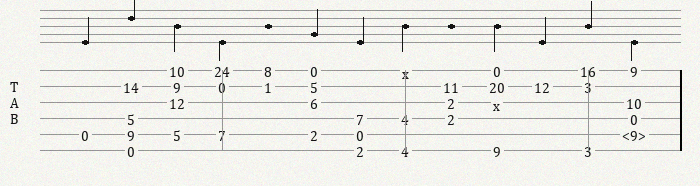0: (81, 127, 93, 141), (127, 143, 139, 157), (218, 79, 230, 93), (310, 63, 322, 77), (356, 127, 368, 141), (493, 63, 505, 77), (630, 111, 642, 125)
1: (264, 79, 276, 93)
10: (169, 63, 189, 77), (626, 95, 646, 109)
11: (443, 79, 463, 93)
12: (169, 95, 189, 109), (534, 79, 554, 93)
14: (123, 79, 143, 93)
16: (580, 63, 600, 77)
2: (310, 127, 322, 141), (356, 143, 368, 157), (447, 95, 459, 109), (447, 111, 459, 125)
20: (489, 79, 509, 93)
24: (214, 63, 234, 77)
3: (584, 143, 596, 157), (584, 79, 596, 93)
4: (401, 111, 413, 125), (401, 143, 413, 157)
5: (127, 111, 139, 126), (173, 127, 185, 142), (310, 79, 322, 94)
6: (310, 95, 322, 109)
7: (218, 127, 230, 141), (356, 111, 368, 125)
8: (264, 63, 276, 77)
9: (127, 127, 139, 141), (173, 79, 185, 93), (493, 143, 505, 157), (630, 63, 642, 77)
harmonic: (622, 127, 650, 141)
x: (402, 65, 413, 76), (493, 97, 504, 108)
